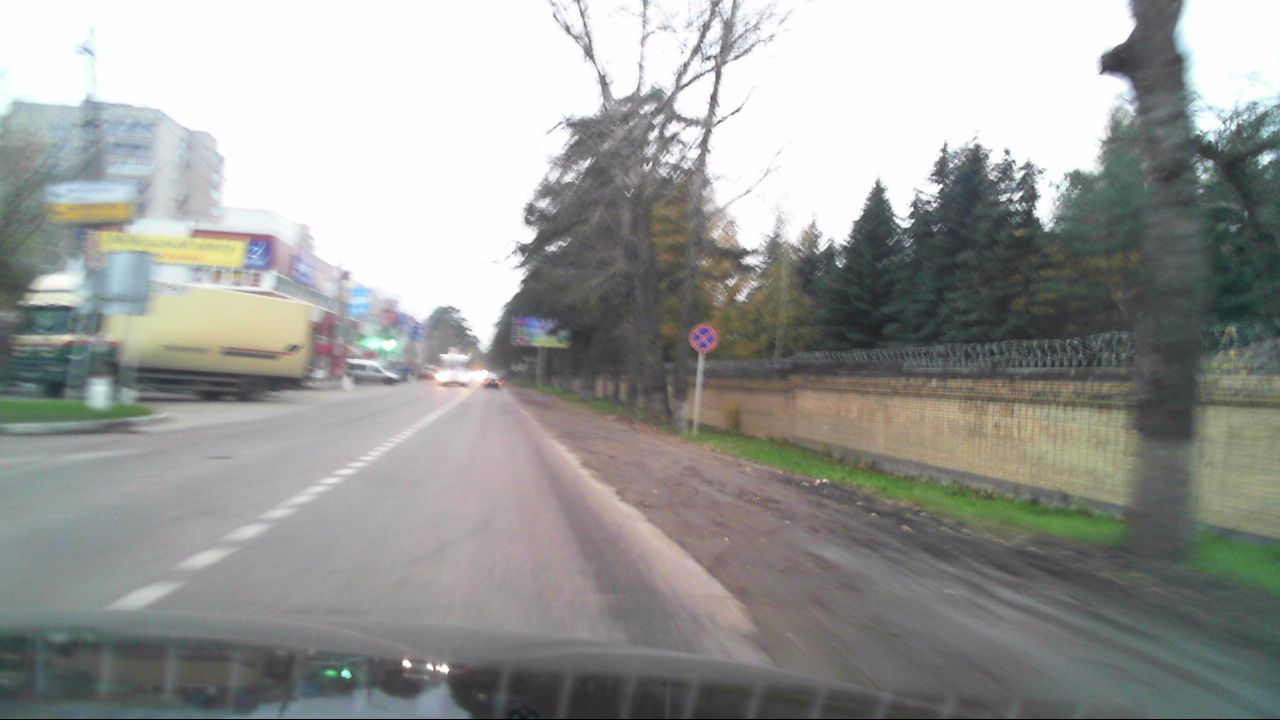No Parking: (688, 322, 718, 352)
